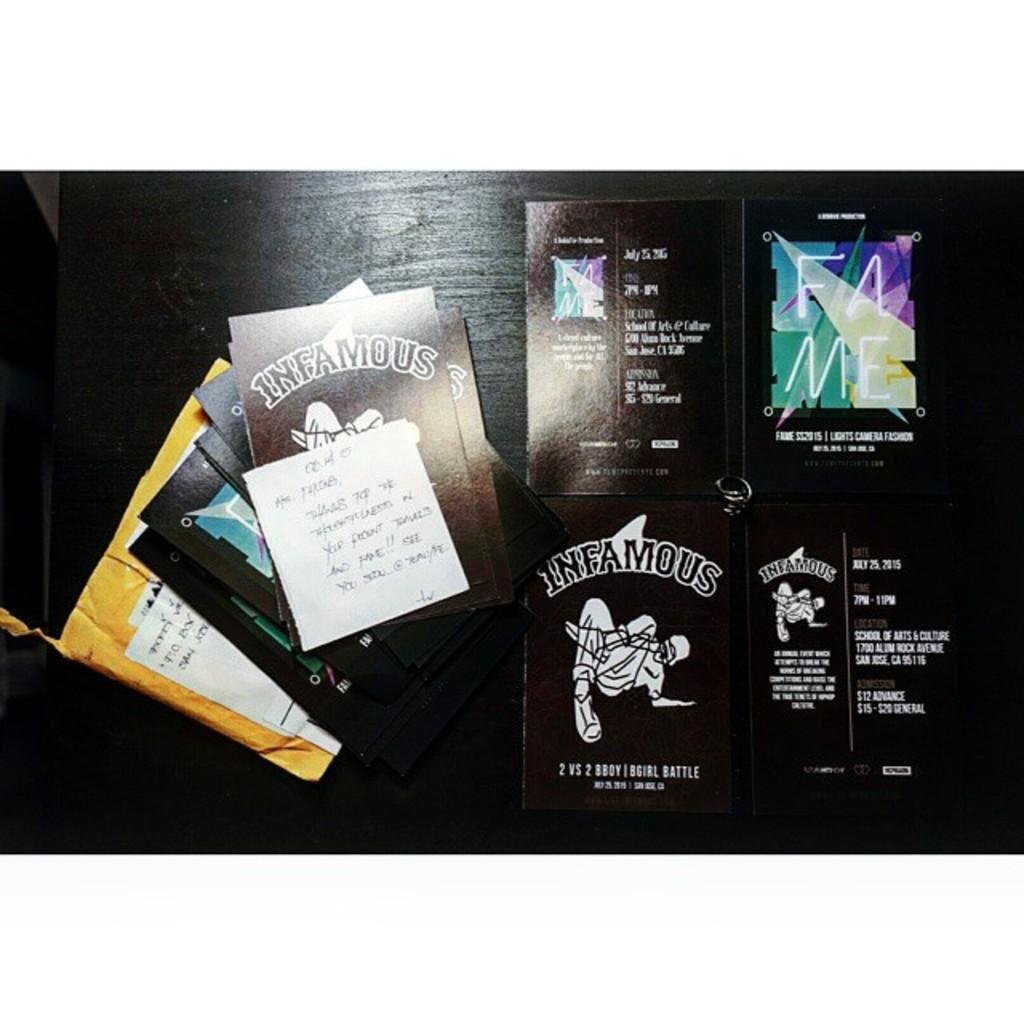book: (522, 507, 763, 846)
